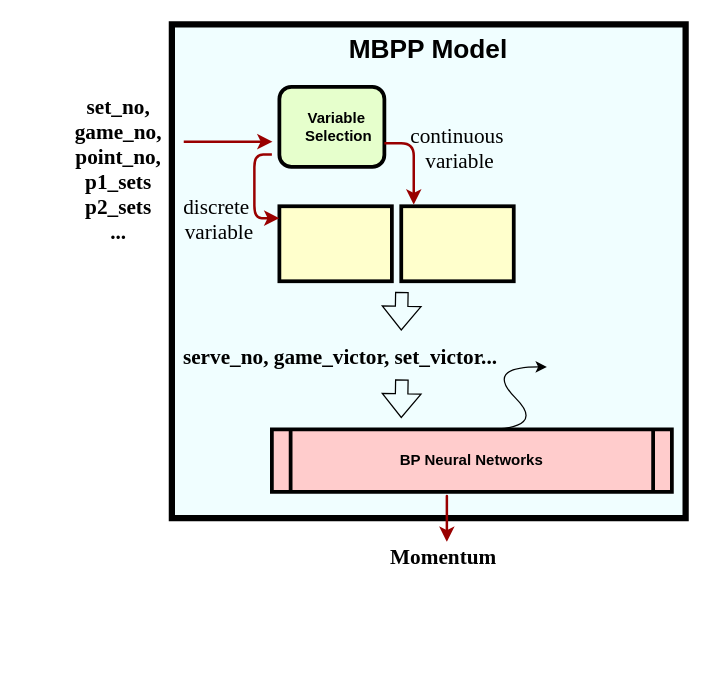
The diagram is 710 pixels wide and 690 high, and some of its shapes have lost their labels. Each missing label, with the centre of its shape:
"Chi-Square Test" goes at (x=335, y=243).
"Pearson Correlation Analysis" goes at (x=457, y=243).
